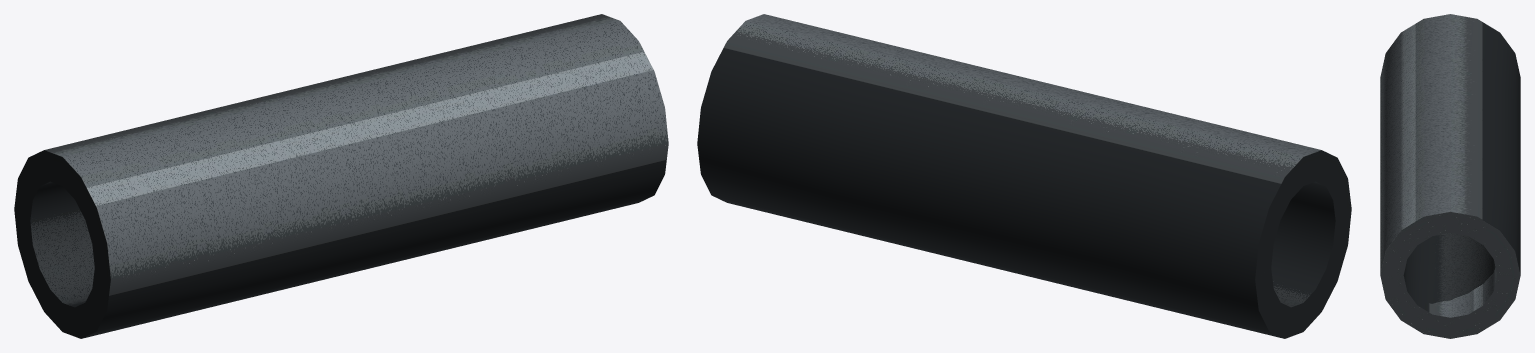
The model's file is tunnel.gltf.
3 views of the same model, side by side, from view 1: azimuth 30°, elevation 25°; view 2: azimuth 150°, elevation 25°; view 3: azimuth 270°, elevation 25° (orthographic). The views are drawn at different scales.
Parts seen in each view (by area): view 1: Tube.1; view 2: Tube.1; view 3: Tube.1.
Boxes of the visible parts, x1=… form: Tube.1: x1=14, y1=14, x2=668, y2=338; Tube.1: x1=697, y1=14, x2=1351, y2=338; Tube.1: x1=1380, y1=14, x2=1520, y2=338.
Size of the model in its own units: 2000 by 600 by 600.
Materials: 1 (1 with a texture image).
